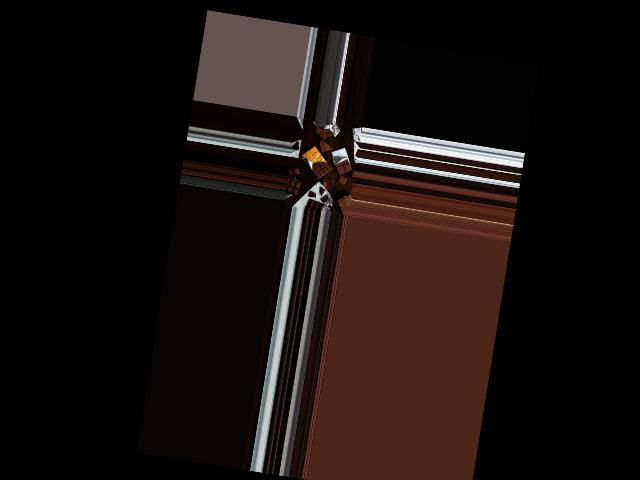chocolate: (327, 147, 357, 176)
